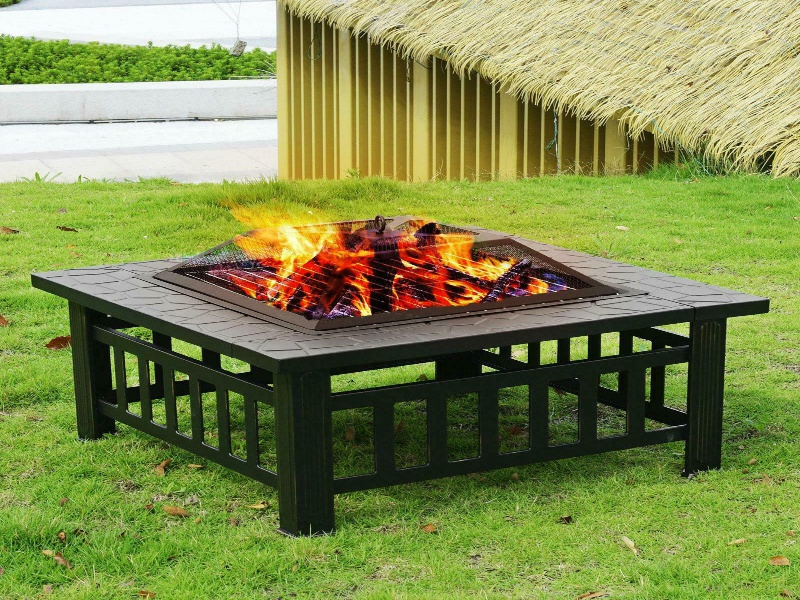fire: (245, 200, 544, 306)
